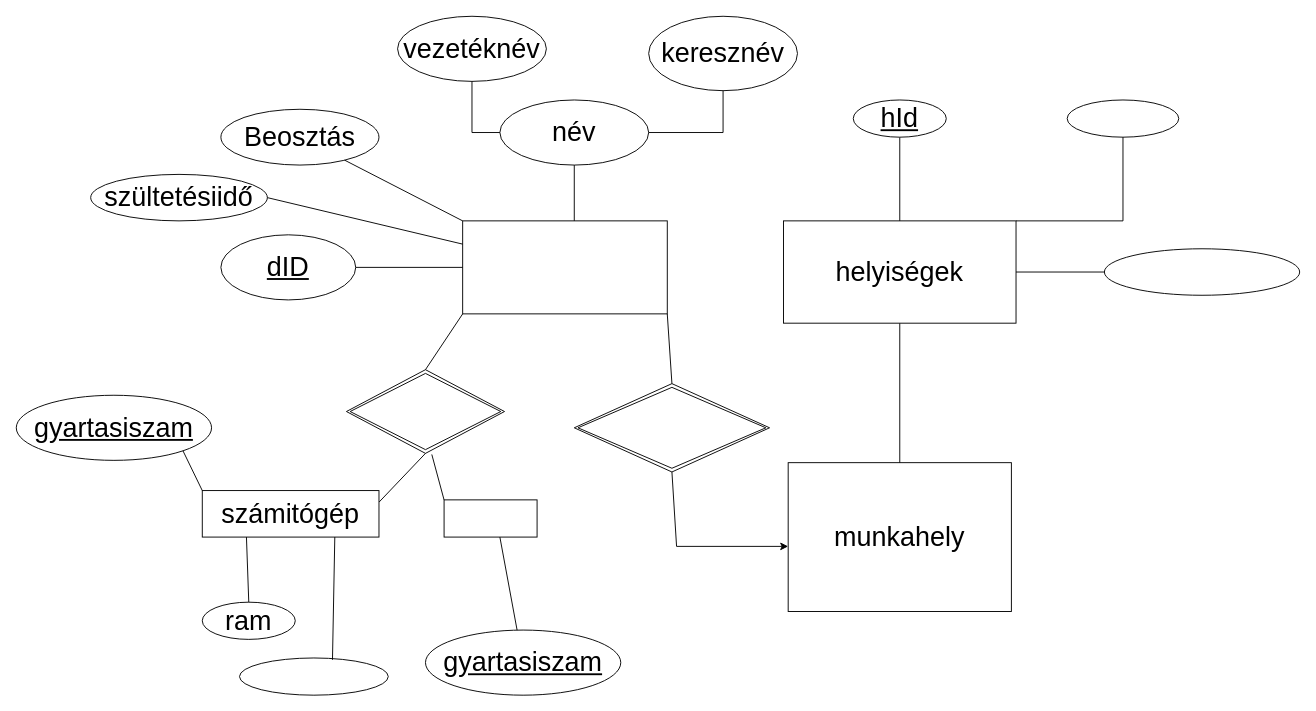
Some shapes in this 1316 by 711 pixel diagram are drawn without their labels. The shapes that lost their labels are listed below. From the top down, each one's centre as x and y in pixels, then its label:
At [1122,118]: "férőhely".
At [564,267]: "dolgozó".
At [1201,271]: "alapterület".
At [425,411]: "van-e neki".
At [671,427]: "itt dolgozik".
At [490,518]: "telefon".
At [313,676]: "processzor".
